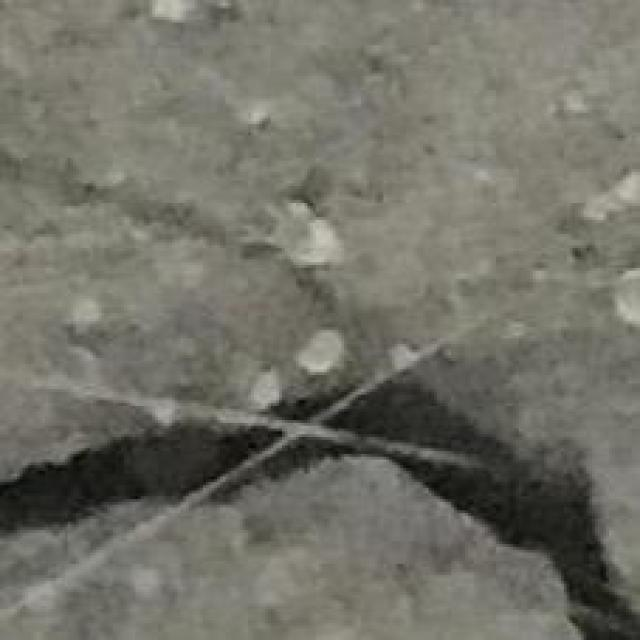Crack: (0, 361, 637, 637)
